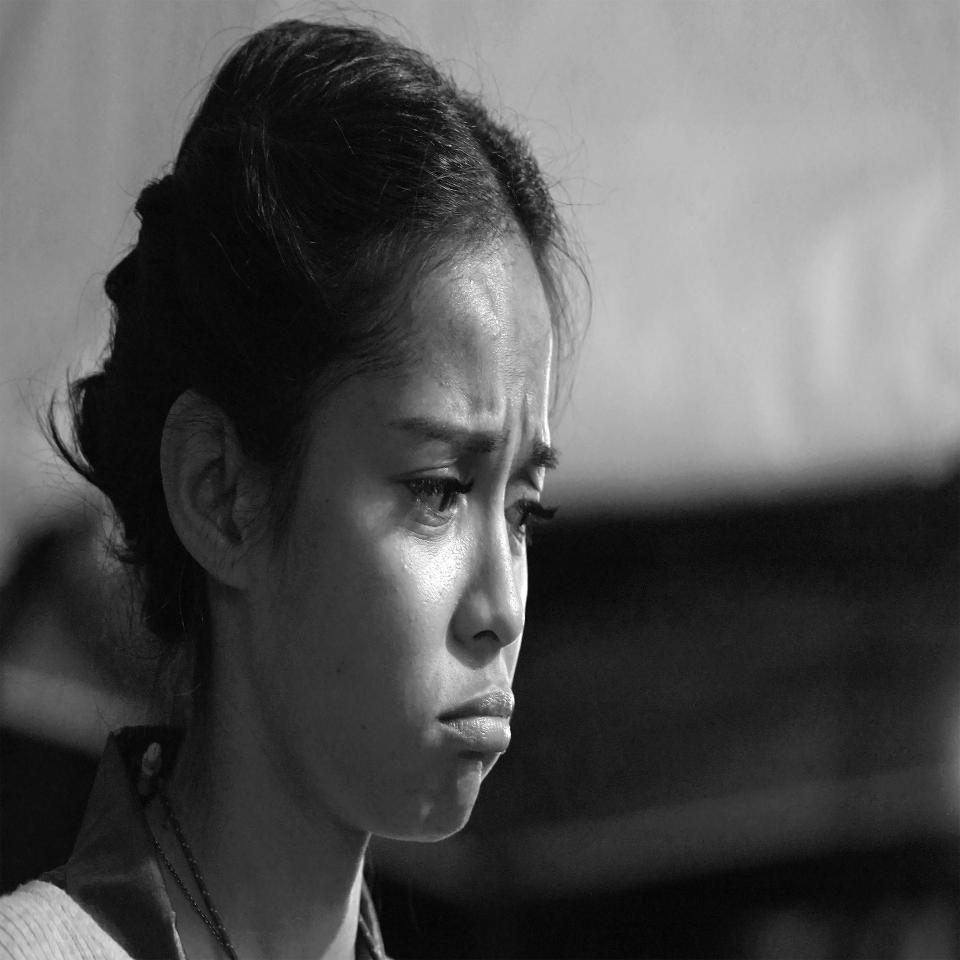Sadness: (247, 246, 554, 848)
